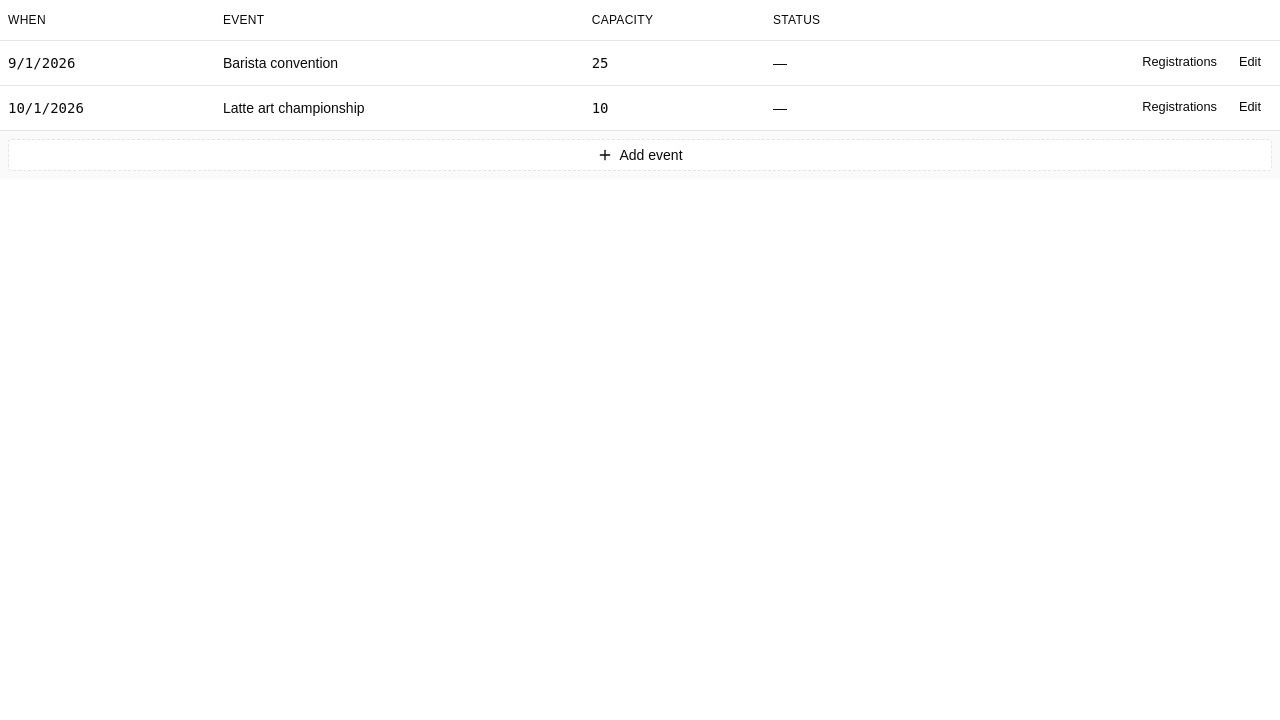
Test case: EventBoard › opens the edited event in a dialog, pre-filled from that row
expect the text "Barista convention" is shown: met, box [215,40,584,85]
Click the button "Edit" in the row of "9/1/2026" at (1250,62), box [1228,48,1272,76]
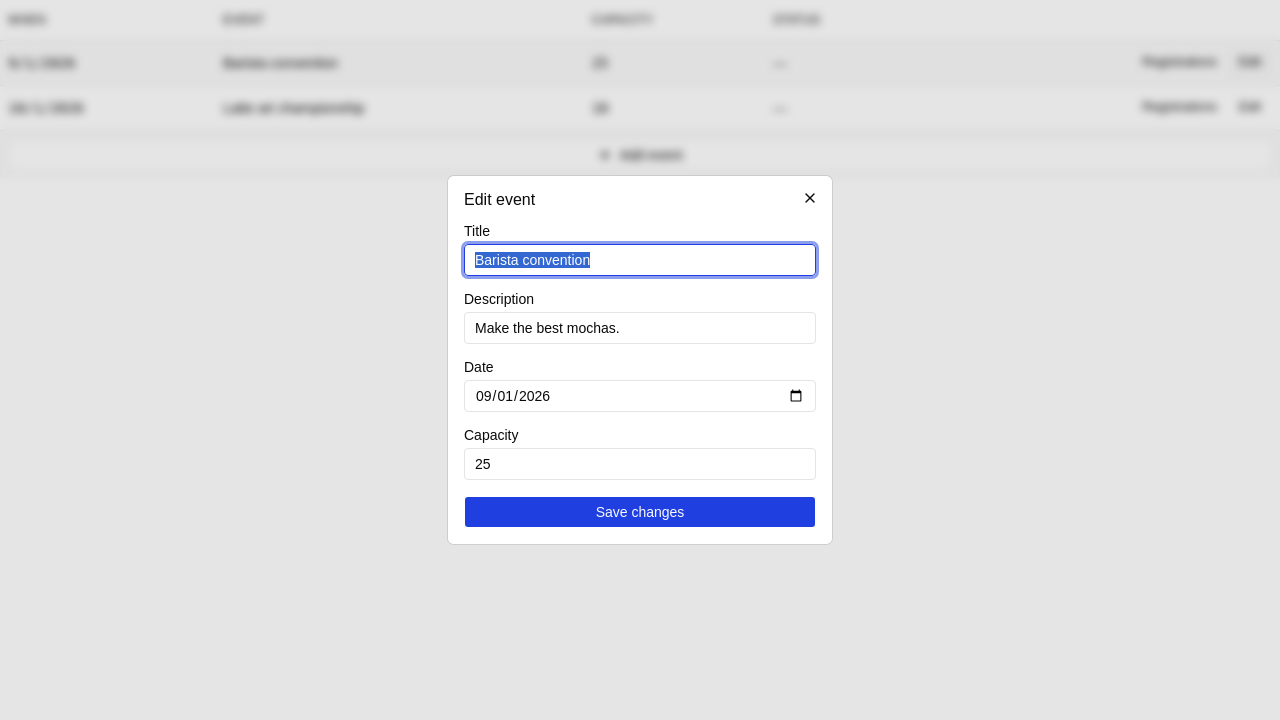
expect the field labelled "Title" holds "Barista convention": met, box [464,244,816,276]
expect the number field labelled "Capacity" holds "25": met, box [464,448,816,480]
